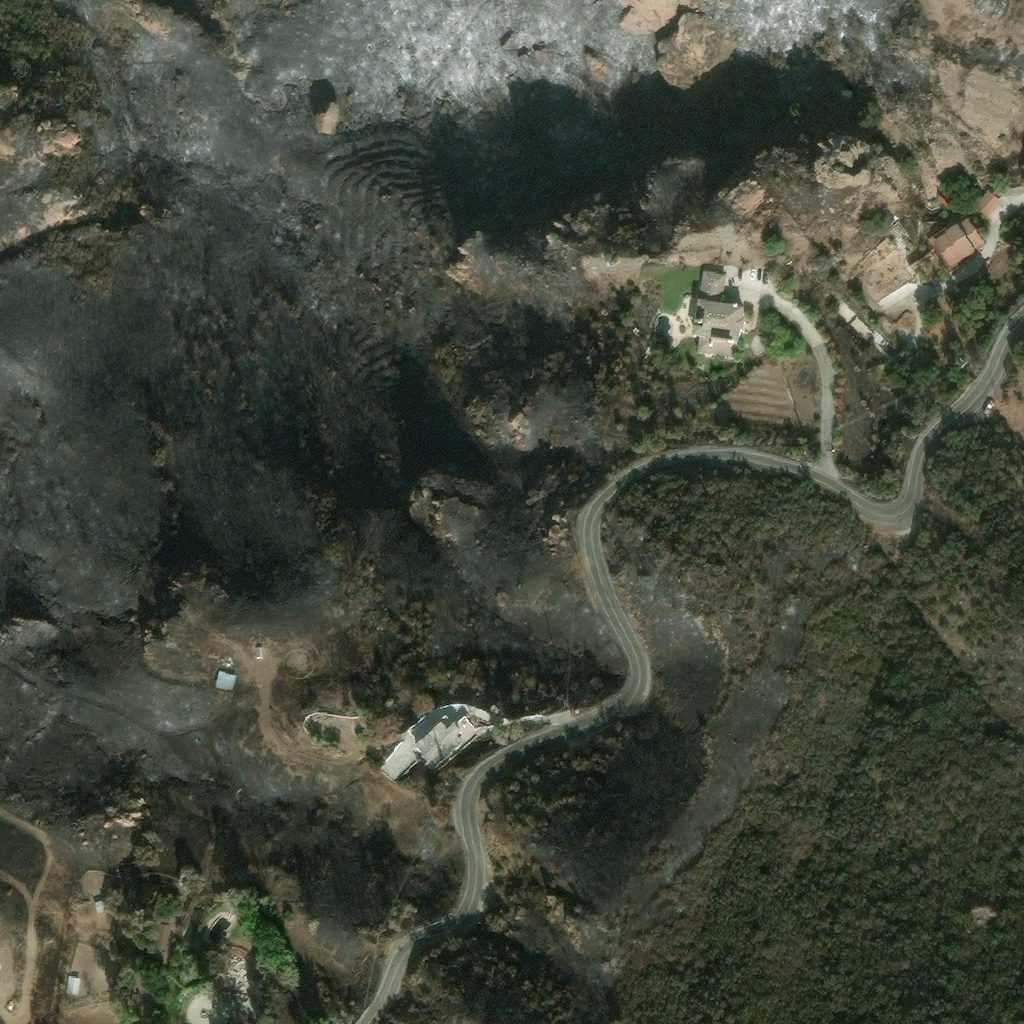0 no-damage: (379, 709, 483, 782), (687, 269, 746, 357), (927, 214, 989, 274), (910, 249, 947, 284), (147, 920, 173, 964), (128, 975, 151, 1016), (973, 189, 1003, 220), (93, 896, 115, 914), (65, 973, 82, 996)
1 minor-damage: (214, 667, 239, 693)
3 destroyed: (222, 653, 234, 664)
